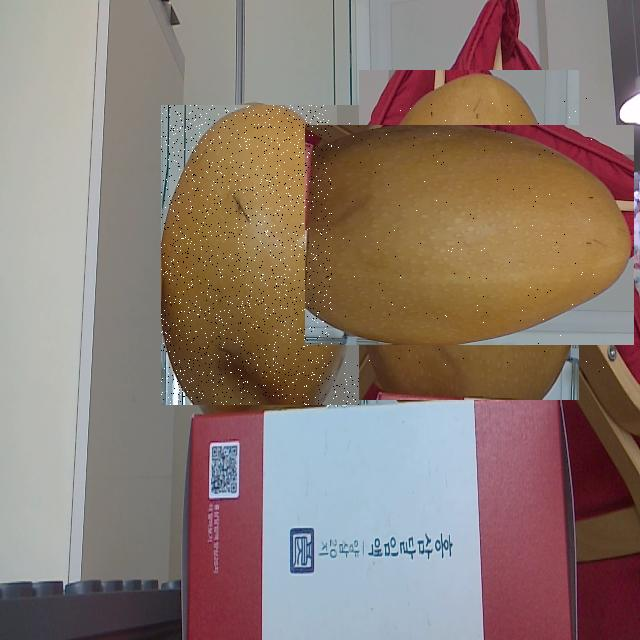pear: (332, 97, 606, 373), (161, 105, 359, 405)
